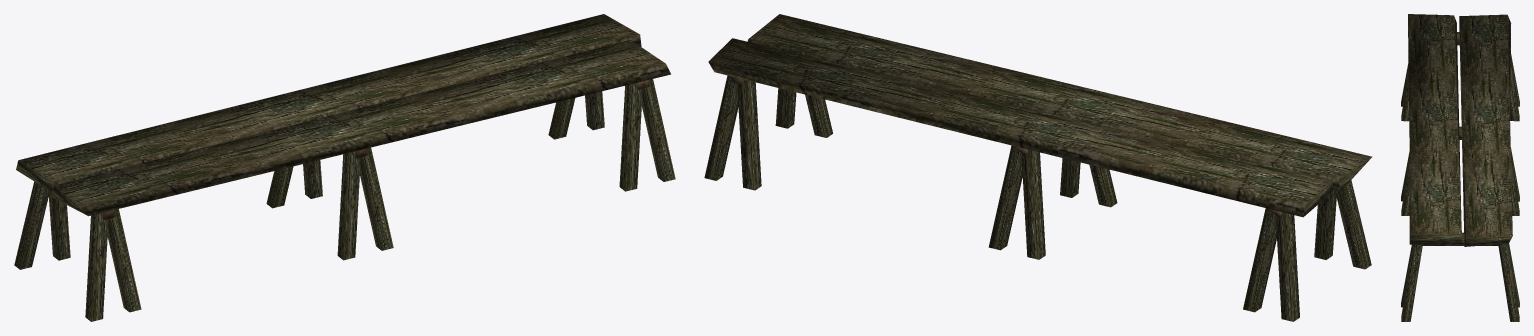
Rendered from DT_TABLE_V2.glb.
The picture shows the model from 3 angles, left to right: view 1: azimuth 30°, elevation 25°; view 2: azimuth 150°, elevation 25°; view 3: azimuth 270°, elevation 25°; orthographic projection. The views are drawn at different scales.
Parts seen in each view (by area): view 1: Mesh; view 2: Mesh; view 3: Mesh.
Boxes of the visible parts, bbox=[...] form: Mesh: bbox=[14, 14, 675, 321]; Mesh: bbox=[704, 14, 1372, 321]; Mesh: bbox=[1401, 14, 1519, 321].
Bounding box in the file's own units: 4.13 × 0.7402 × 0.9257.
Materials: 2 (2 with a texture image).
